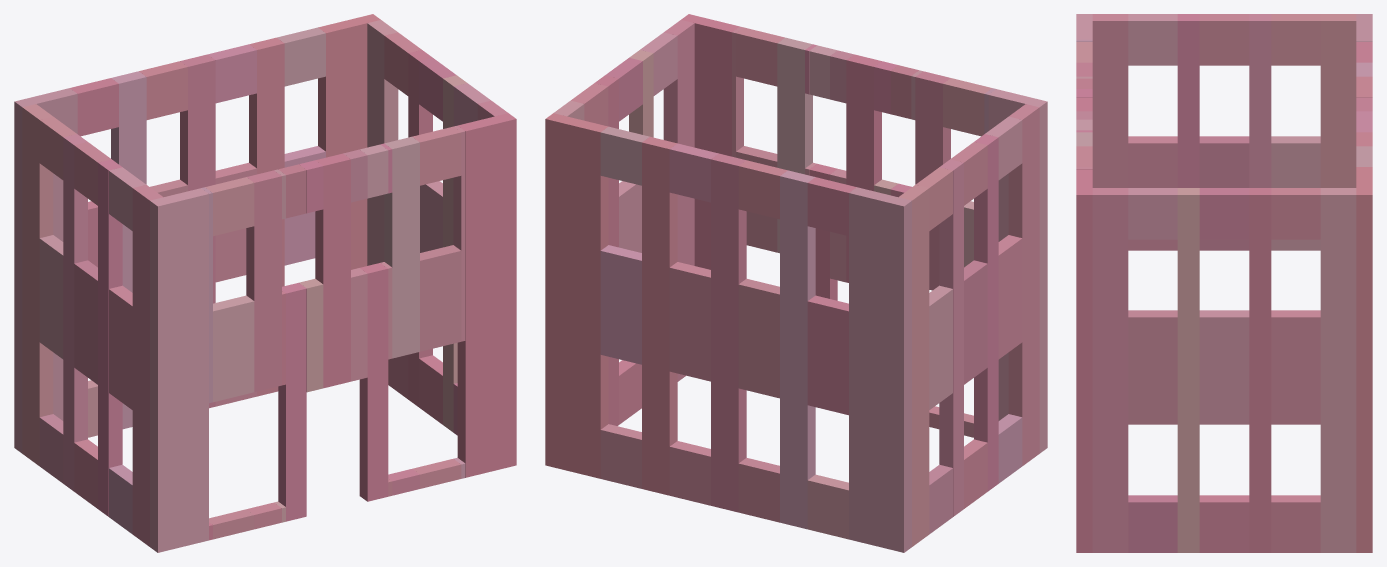
The model's file is Shop_Candy_Walls.glb.
The picture shows the model from 3 angles, left to right: view 1: azimuth 30°, elevation 25°; view 2: azimuth 150°, elevation 25°; view 3: azimuth 270°, elevation 25°; orthographic projection. The views are drawn at different scales.
Parts seen in each view (by area): view 1: Shop_Candy_Walls; view 2: Shop_Candy_Walls; view 3: Shop_Candy_Walls.
Part boxes in pixels (box(x1,y1,x2,y2)): Shop_Candy_Walls: box(14, 14, 516, 552); Shop_Candy_Walls: box(545, 14, 1047, 552); Shop_Candy_Walls: box(1076, 14, 1372, 552).
Bounding box in the file's own units: 26 × 24 × 18.
